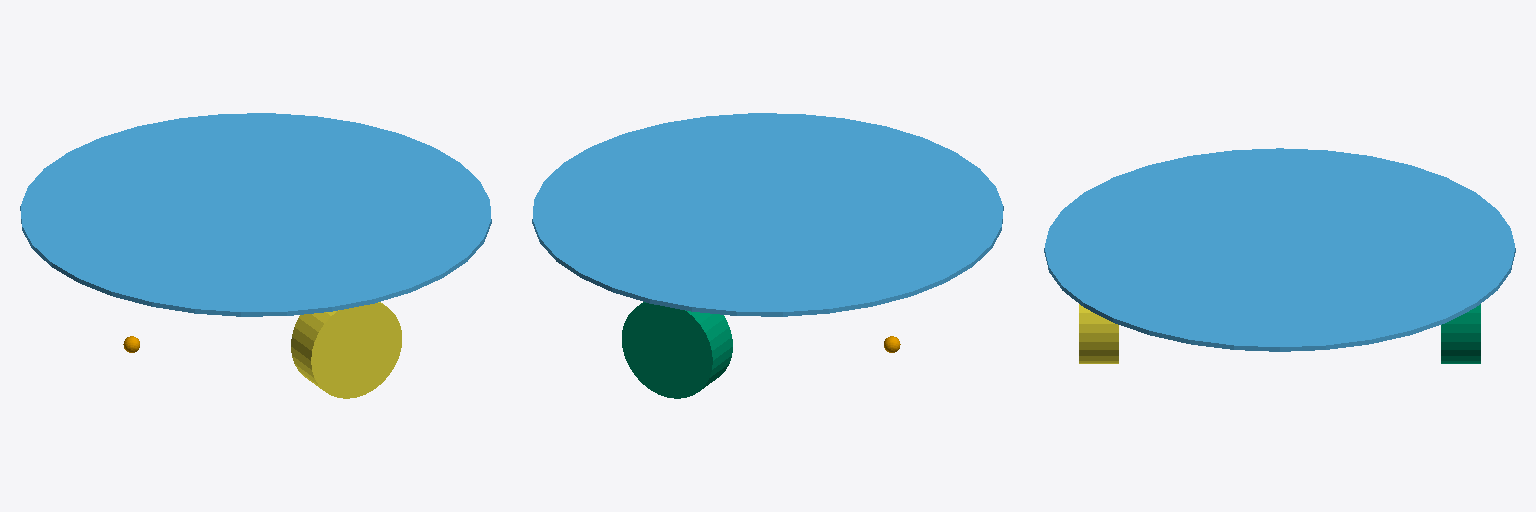
robot.urdf — trivial:
<?xml version="1.0"?>
<robot name="trivial">
  <link name="base_footprint">
    <visual>
      <geometry>
        <sphere radius="0.005" />
      </geometry>
    </visual>
    <collision>
      <geometry>
        <sphere radius="0.005" />
      </geometry>
    </collision>
  </link>
  <link name="base_link">
    <visual>
      <geometry>
        <cylinder radius="0.14" length="0.003" />
      </geometry>
    </visual>
    <collision>
      <geometry>
        <cylinder radius="0.14" length="0.003" />
      </geometry>
    </collision>
  </link>
  <link name="left_wheel">
    <visual>
      <origin rpy="1.57 0 0" />
      <geometry>
        <cylinder radius="0.03125" length="0.024" />
      </geometry>
    </visual>
    <collision>
      <origin rpy="1.57 0 0" />
      <geometry>
        <cylinder radius="0.03125" length="0.024" />
      </geometry>
    </collision>
  </link>
  <link name="right_wheel">
    <visual>
      <origin rpy="1.57 0 0" />
      <geometry>
        <cylinder radius="0.03125" length="0.024" />
      </geometry>
    </visual>
    <collision>
      <origin rpy="1.57 0 0" />
      <geometry>
        <cylinder radius="0.03125" length="0.024" />
      </geometry>
    </collision>
  </link>
  <joint name="base_footprint_to_base_link" type="fixed">
    <parent link="base_footprint" />
    <child link="base_link" />
    <origin xyz="0.085 0 0.065" />
  </joint>
  <joint name="base_link_to_left_wheel" type="continuous">
    <parent link="base_link" />
    <child link="left_wheel" />
    <origin xyz="0 0.1075 -0.04" />
    <axis xyz="0 1 0" />
  </joint>
  <joint name="base_link_to_right_wheel" type="continuous">
    <parent link="base_link" />
    <child link="right_wheel" />
    <origin xyz="0 -0.1075 -0.04" />
    <axis xyz="0 1 0" />
  </joint>
</robot>

--- Facts derived from the render (not from the file) ---
3 views of the same robot in one strip: view 1: azimuth 30°, elevation 25°; view 2: azimuth 150°, elevation 25°; view 3: azimuth 270°, elevation 25° (orthographic).
Model trivial with 4 links and 3 joints (2 continuous, 1 fixed), rooted at base_footprint, posed all joints at 0.
Visible links, largest first — view 1: base_link, right_wheel; view 2: base_link, left_wheel; view 3: base_link, left_wheel, right_wheel.
Link boxes in pixels (left/top/right/bottom): base_link: left=20, top=113, right=491, bottom=316; right_wheel: left=291, top=302, right=401, bottom=398; base_link: left=532, top=113, right=1003, bottom=316; left_wheel: left=622, top=302, right=732, bottom=398; base_link: left=1044, top=148, right=1515, bottom=351; left_wheel: left=1441, top=304, right=1480, bottom=363; right_wheel: left=1079, top=304, right=1118, bottom=363.
Bounding box of the posed robot: 0.28 × 0.28 × 0.0728 m (x, y, z).
Geometry: primitives only (box / cylinder / sphere), no mesh files.